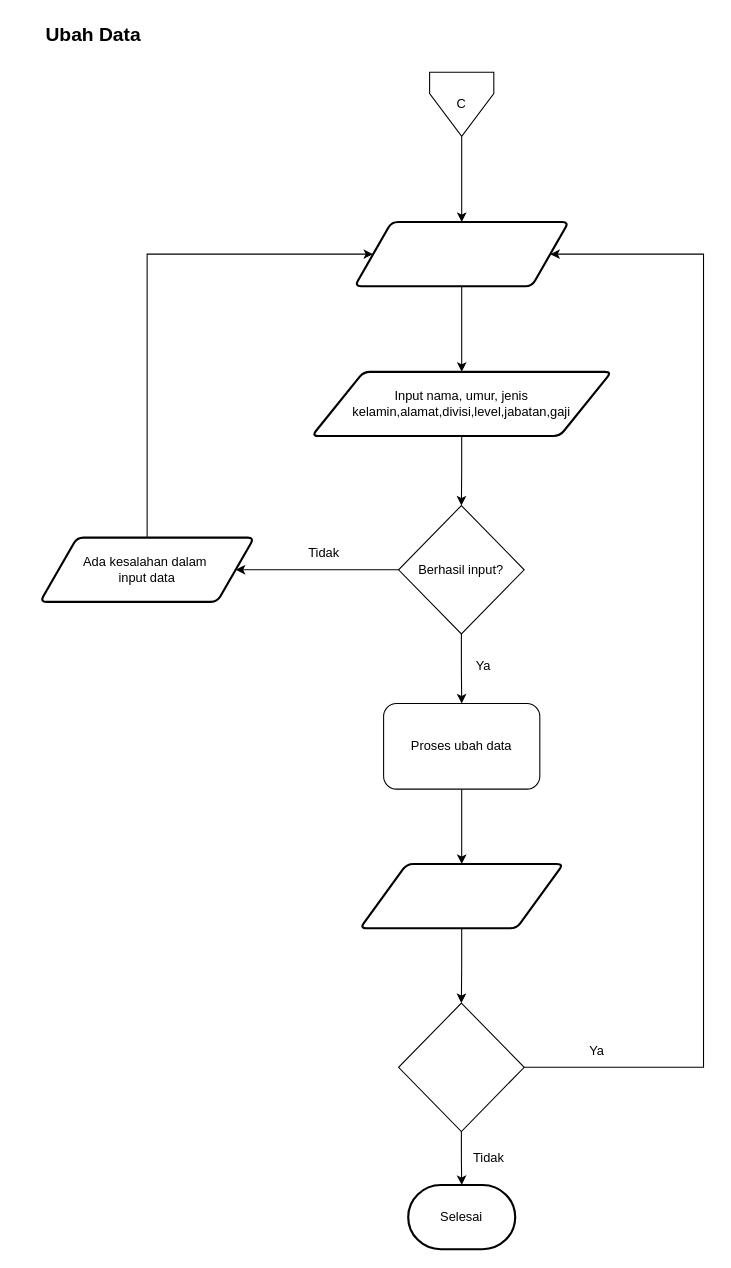
Some shapes in this 731 by 1268 pixel diagram are drawn without their labels. Here are the shapes that lost their labels. From the top down, the centre of each, then its label:
the point at 461,253: pilih data yang mau diubah
the point at 461,895: Data berhasil diubah
the point at 461,1067: Apakah lanjut?
